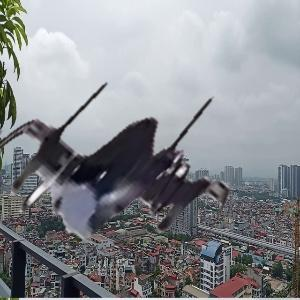drone: (10, 33, 255, 278)
